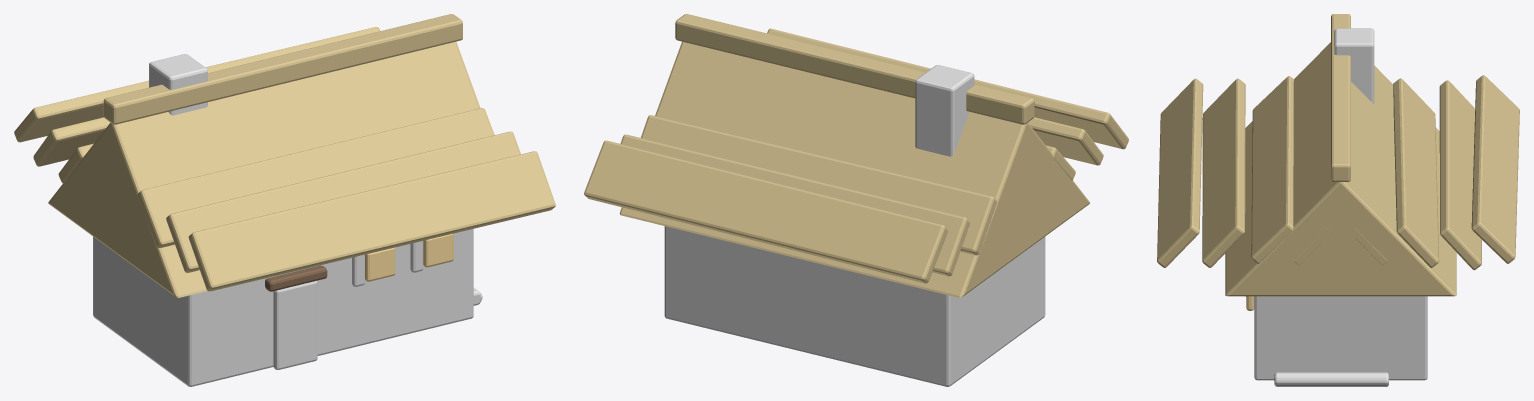
The model's file is cottage_b.glb.
3 renders of one model, left to right at view 1: azimuth 30°, elevation 25°; view 2: azimuth 150°, elevation 25°; view 3: azimuth 270°, elevation 25°, orthographic. The views are drawn at different scales.
Visible parts, largest first — view 1: roof_body, walls, shingle.007, shingle.005, ridge, shingle.006, shingle.003, door, shingle.002, chimney, lintel, window (+2 smaller); view 2: roof_body, walls, shingle.003, shingle.001, ridge, shingle.002, chimney, shingle.007, shingle.006; view 3: roof_body, walls, shingle.003, shingle.006, shingle.007, shingle.001, shingle.005, shingle.002, ridge, chimney, log, log.001 (+3 smaller).
Part boxes in pixels (box(x1,y1,x2,y2)): roof_body: box(48, 41, 480, 297); walls: box(93, 229, 473, 386); shingle.007: box(188, 151, 555, 291); shingle.005: box(137, 108, 494, 247); ridge: box(103, 14, 462, 124); shingle.006: box(166, 131, 520, 272); shingle.003: box(14, 27, 380, 142); door: box(273, 280, 317, 369); shingle.002: box(33, 117, 110, 166); chimney: box(149, 54, 207, 115); lintel: box(265, 265, 327, 291); window: box(365, 247, 395, 281); roof_body: box(619, 41, 1089, 297); walls: box(664, 226, 1045, 386); shingle.003: box(584, 140, 947, 283); shingle.001: box(640, 115, 996, 255); ridge: box(675, 14, 1034, 124); shingle.002: box(620, 134, 969, 276); chimney: box(915, 65, 974, 156); shingle.007: box(767, 28, 1128, 149); shingle.006: box(1028, 117, 1103, 165); roof_body: box(1225, 42, 1456, 296); walls: box(1254, 296, 1427, 380); shingle.003: box(1471, 75, 1519, 263); shingle.006: box(1202, 78, 1245, 267); shingle.007: box(1157, 78, 1203, 267); shingle.001: box(1393, 78, 1439, 267); shingle.005: box(1251, 76, 1293, 263); shingle.002: box(1439, 80, 1481, 270); ridge: box(1331, 14, 1350, 181); chimney: box(1334, 28, 1374, 103); log: box(1274, 372, 1351, 386); log.001: box(1294, 372, 1368, 386).
Bounding box in the file's own units: 0.54 × 0.3994 × 0.5445.
